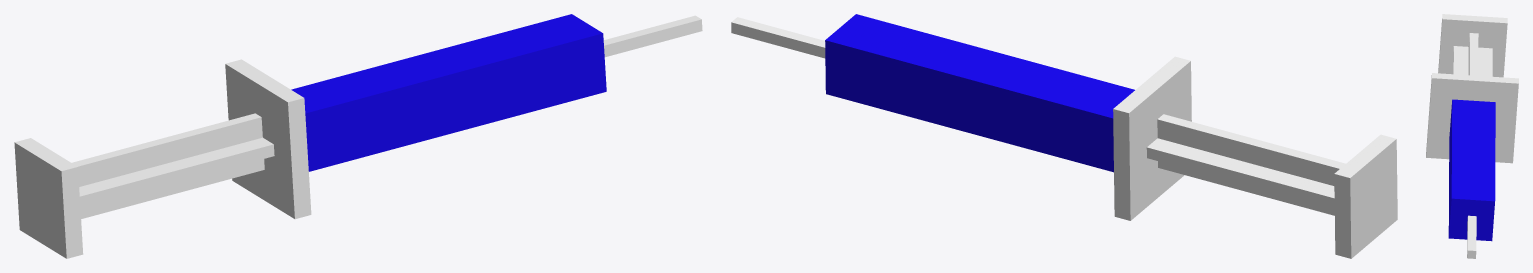
Rendered from strzykawka.gltf.
The picture shows the model from 3 angles, left to right: view 1: azimuth 30°, elevation 25°; view 2: azimuth 150°, elevation 25°; view 3: azimuth 270°, elevation 25°; orthographic projection. The views are drawn at different scales.
Visible parts, largest first — view 1: cube (×6); view 2: cube (×6); view 3: cube (×6).
Part boxes in pixels (x1,y1,x2,y2): cube (×6): [14, 14, 702, 258]; cube (×6): [731, 14, 1397, 258]; cube (×6): [1426, 14, 1518, 258].
Size of the model in its own units: 0.7513 by 0.1336 by 0.1332.
Materials: 1 (1 with a texture image).
